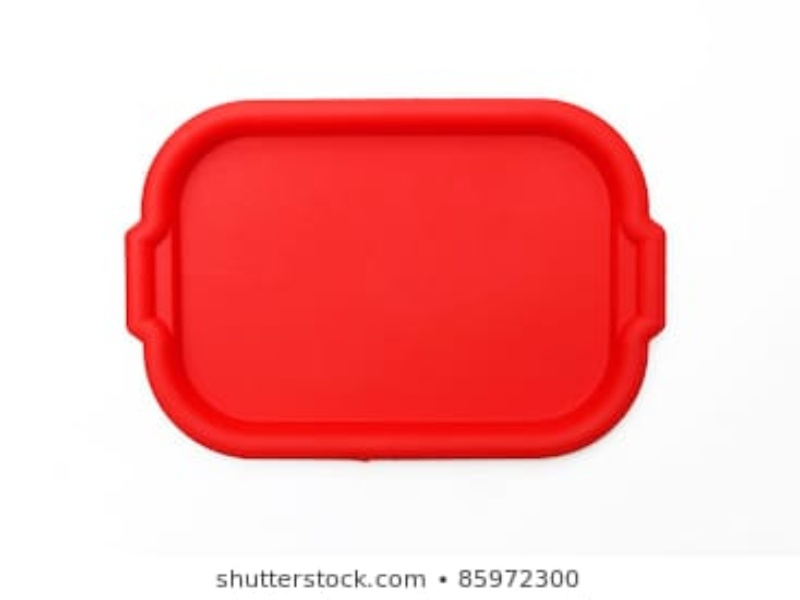plastic-tray: (120, 95, 671, 466)
